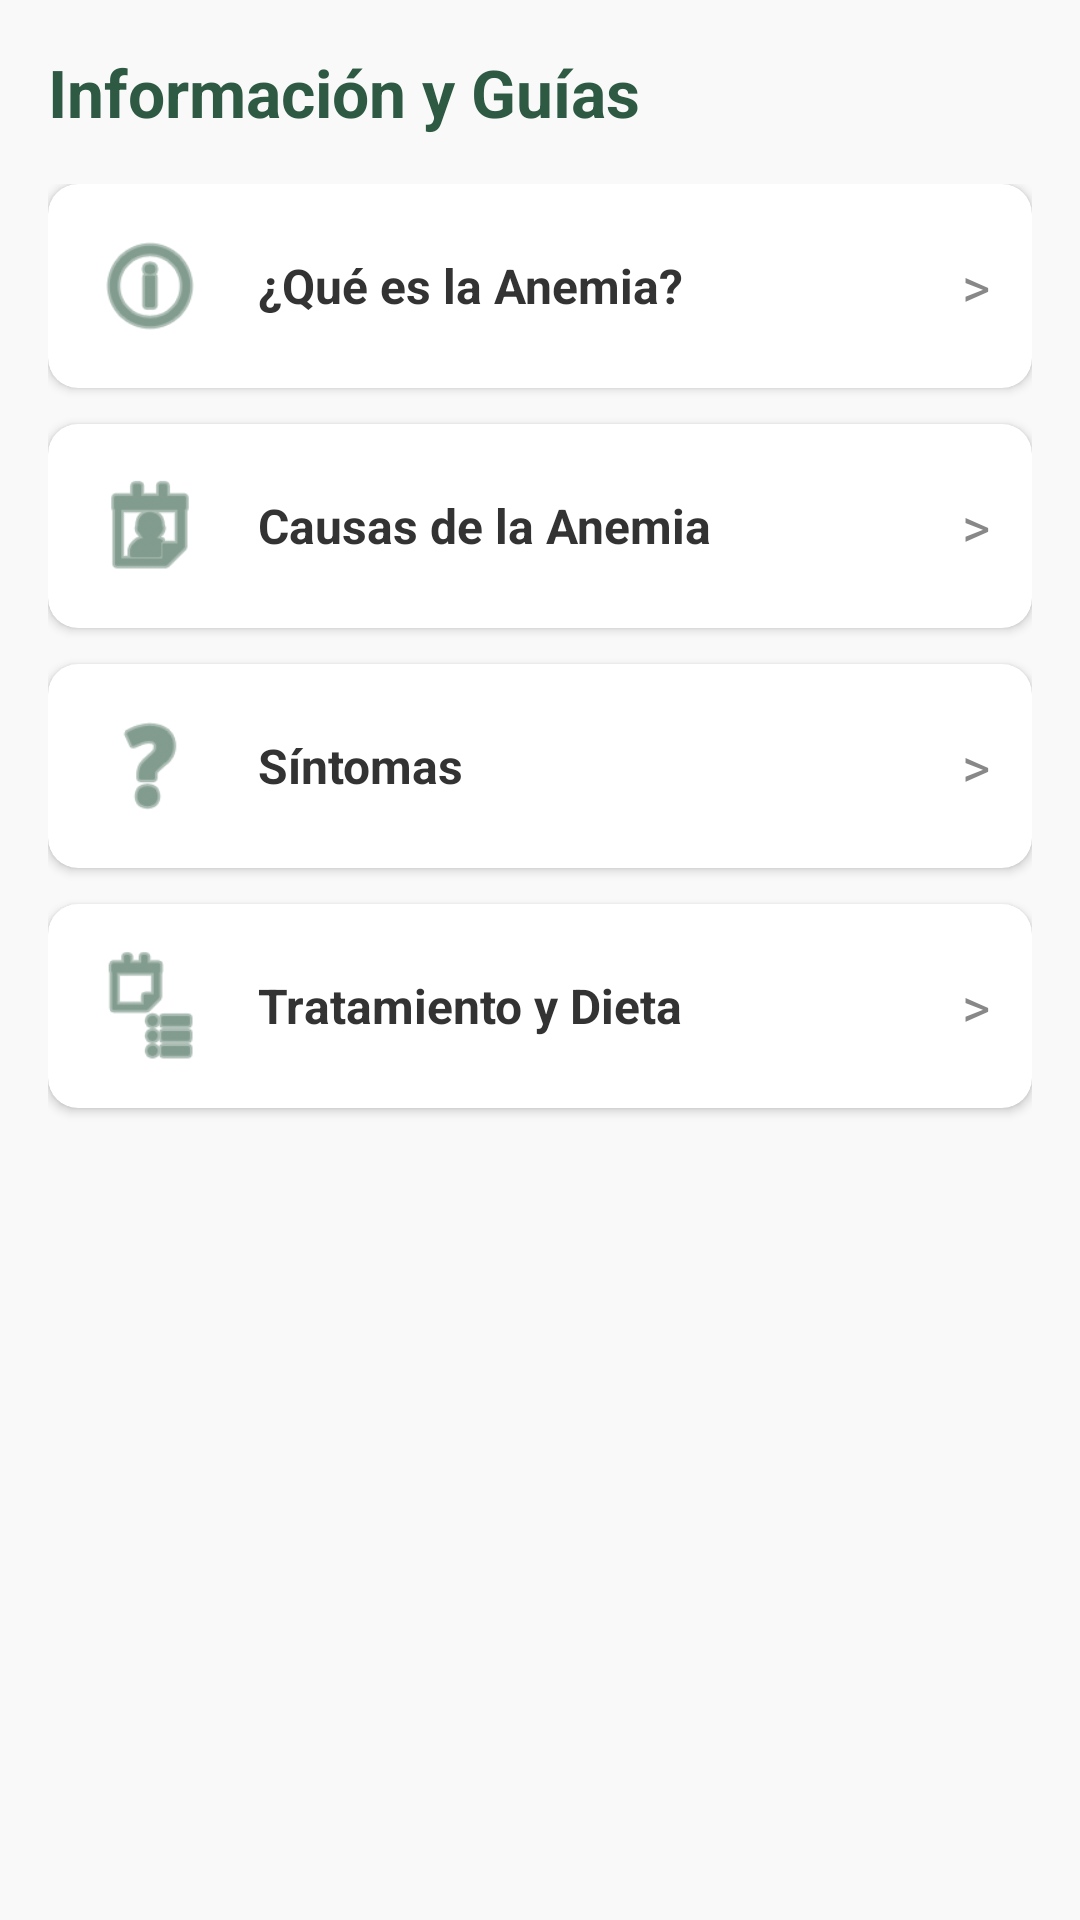

Where icons sit on this 1080 × 1920 app screen, as box(x1, y1, x2, y2):
agenda: box(108, 952, 193, 1059)
calendar: box(111, 481, 189, 569)
help: box(124, 723, 176, 809)
info details: box(107, 243, 193, 329)
